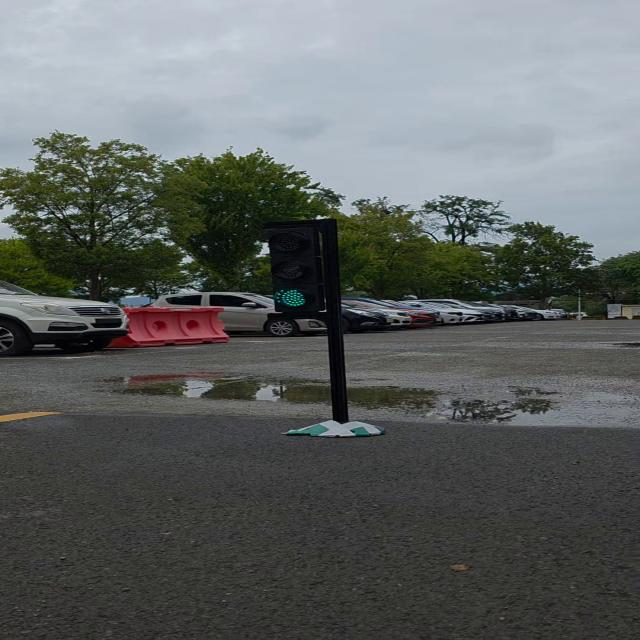green: (262, 222, 336, 312)
